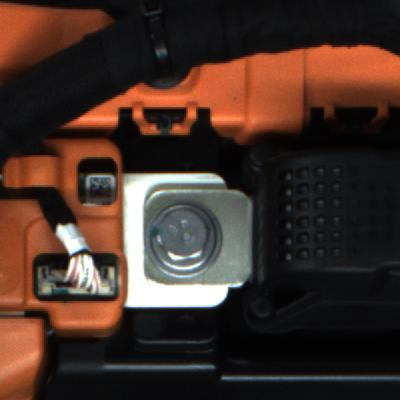nut_b: (143, 200, 223, 276)
